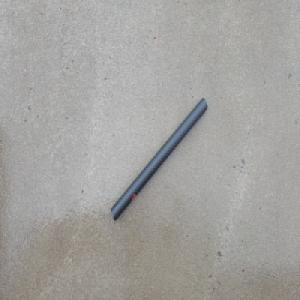LuggagePart: (110, 96, 208, 223)
